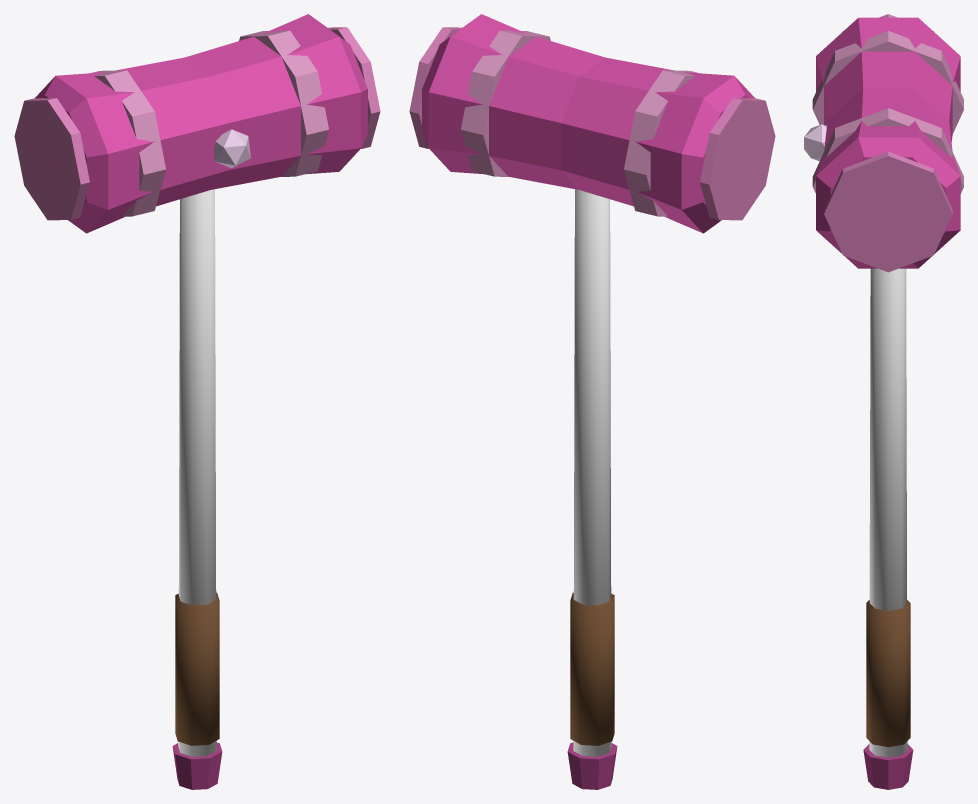
Rendered from orichalcum_hammer.glb.
The picture shows the model from 3 angles, left to right: view 1: azimuth 30°, elevation 25°; view 2: azimuth 150°, elevation 25°; view 3: azimuth 270°, elevation 25°; orthographic projection. The views are drawn at different scales.
Parts seen in each view (by area): view 1: orichalcum_hammer_v0; view 2: orichalcum_hammer_v0; view 3: orichalcum_hammer_v0.
Boxes of the visible parts, x1,y1,x2,y2 form: orichalcum_hammer_v0: (14, 14, 380, 789); orichalcum_hammer_v0: (409, 14, 775, 789); orichalcum_hammer_v0: (804, 14, 963, 789).
Size of the model in its own units: 0.384 by 0.8914 by 0.1828.
